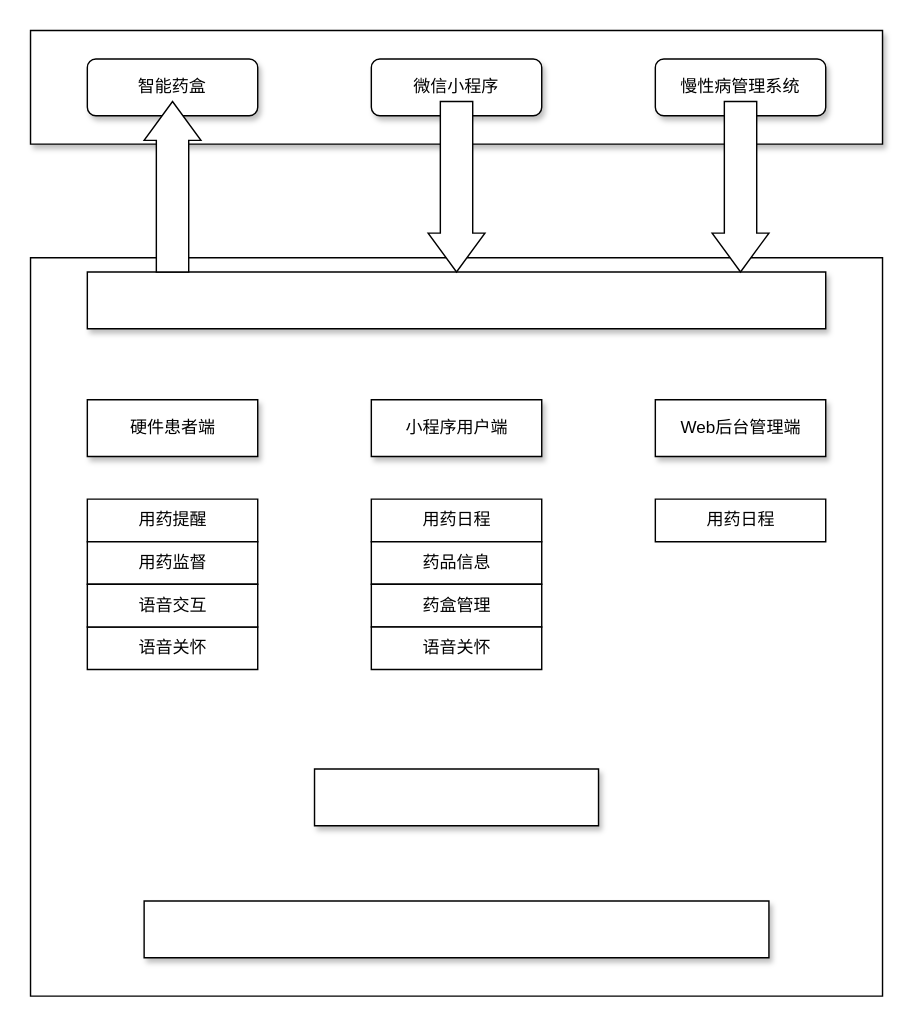
Some shapes in this 916 by 1021 pixel diagram are drawn without their labels. Each missing label, with the centre of its shape:
功能管理: the point at 457,302
接口请求: the point at 457,799
自定义接口调用: the point at 457,931
